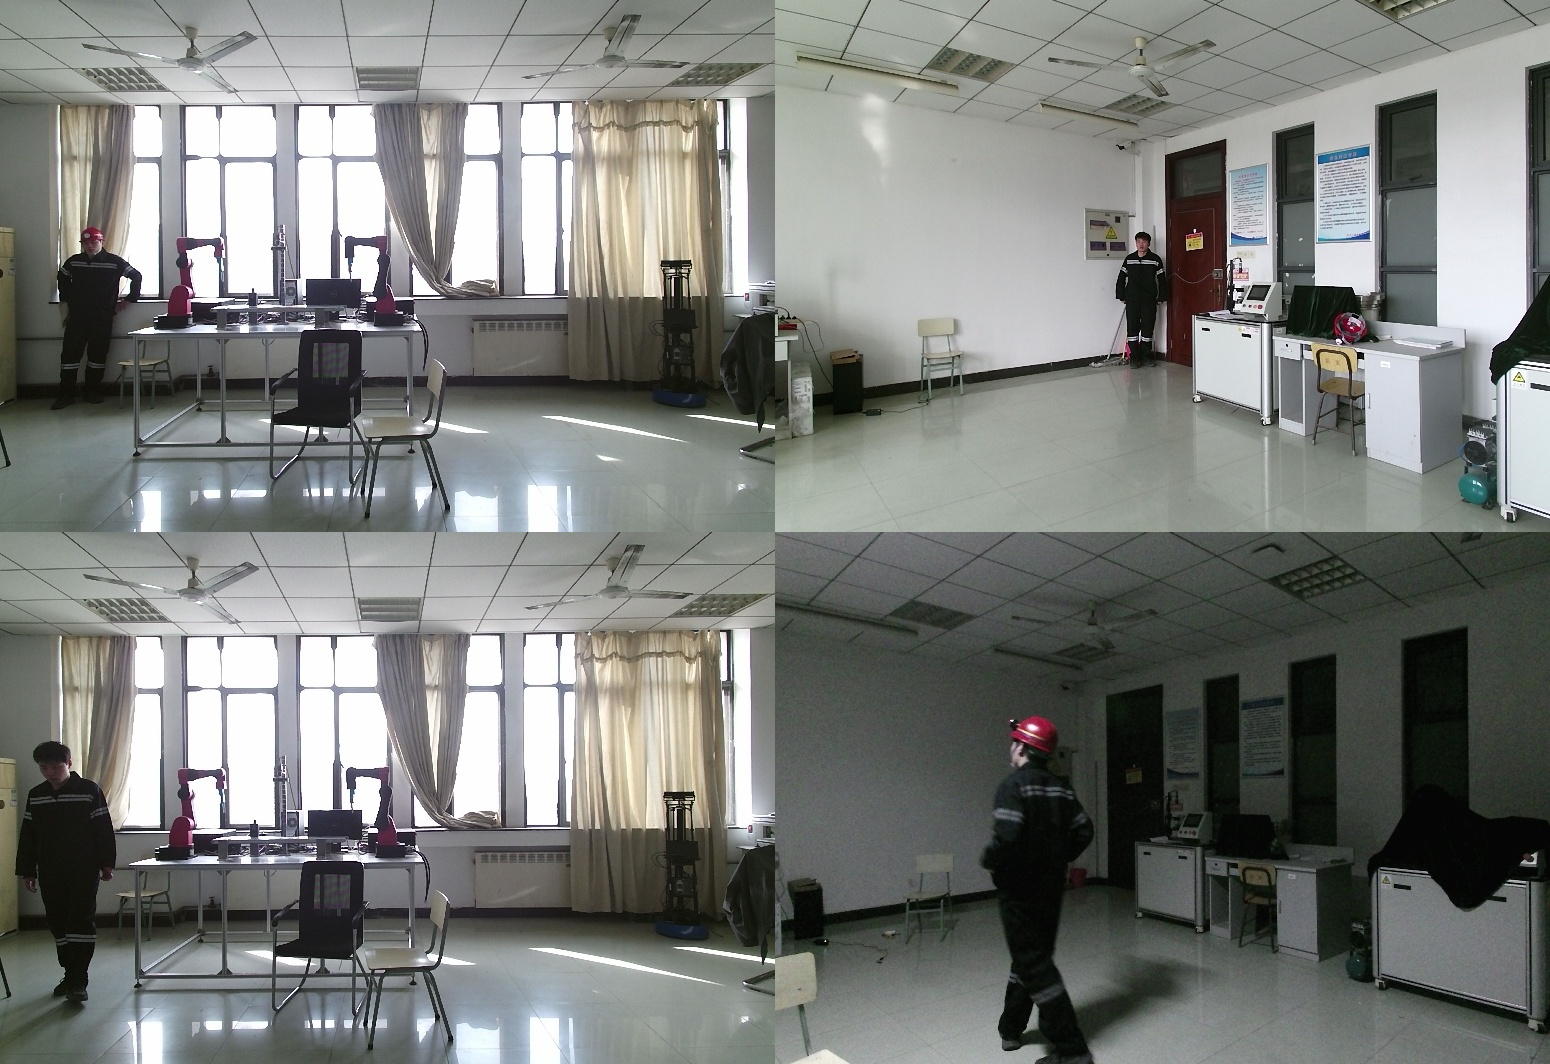person: (962, 717, 1092, 1064), (16, 741, 120, 997), (53, 226, 142, 404), (1118, 233, 1171, 370)
